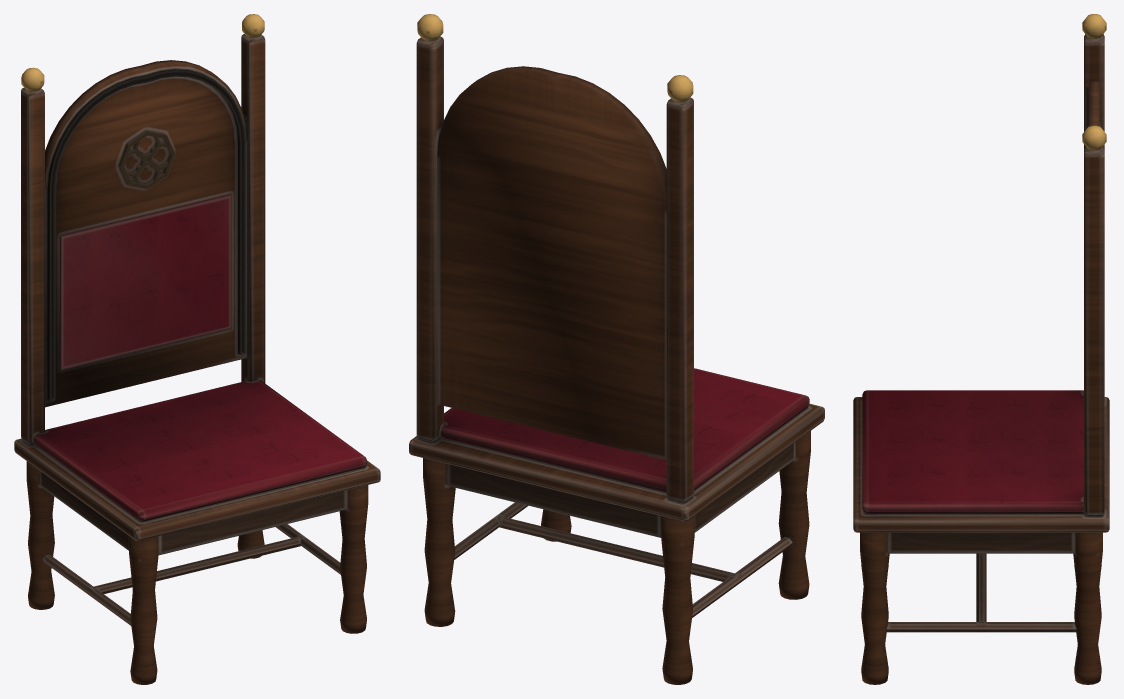
The model's file is LibraryChair.fbx.
The picture shows the model from 3 angles, left to right: view 1: azimuth 30°, elevation 25°; view 2: azimuth 150°, elevation 25°; view 3: azimuth 270°, elevation 25°; orthographic projection. The views are drawn at different scales.
Visible parts, largest first — view 1: LibraryChair; view 2: LibraryChair; view 3: LibraryChair.
Part boxes in pixels (bbox=[...]): LibraryChair: bbox=[14, 14, 380, 684]; LibraryChair: bbox=[409, 14, 824, 684]; LibraryChair: bbox=[853, 14, 1109, 684].
Bounding box in the file's own units: 230 × 478 × 200.
